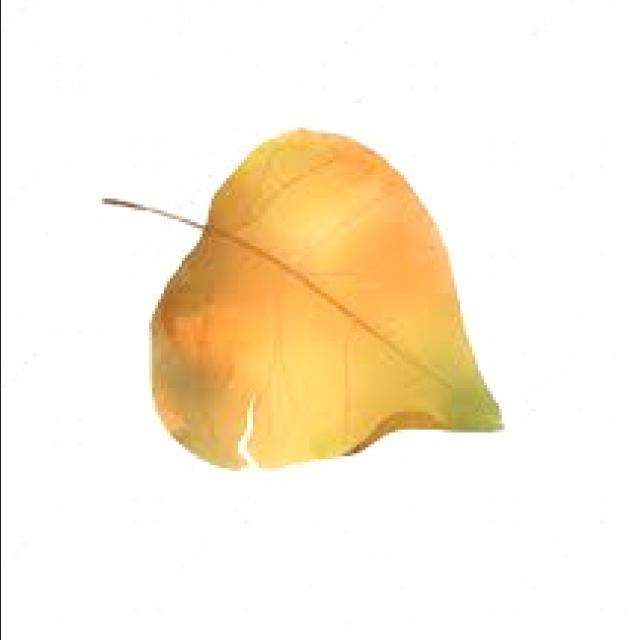leaf: (107, 126, 505, 470)
